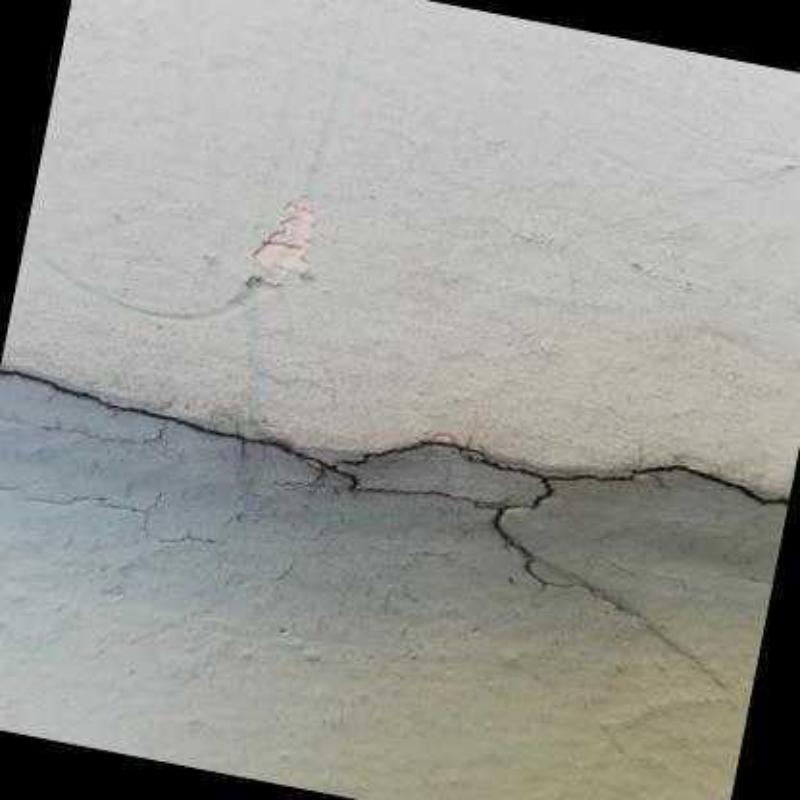pothole: (0, 363, 789, 588), (542, 569, 723, 688), (333, 469, 506, 510), (29, 492, 167, 537), (252, 196, 315, 265), (156, 531, 215, 546)
